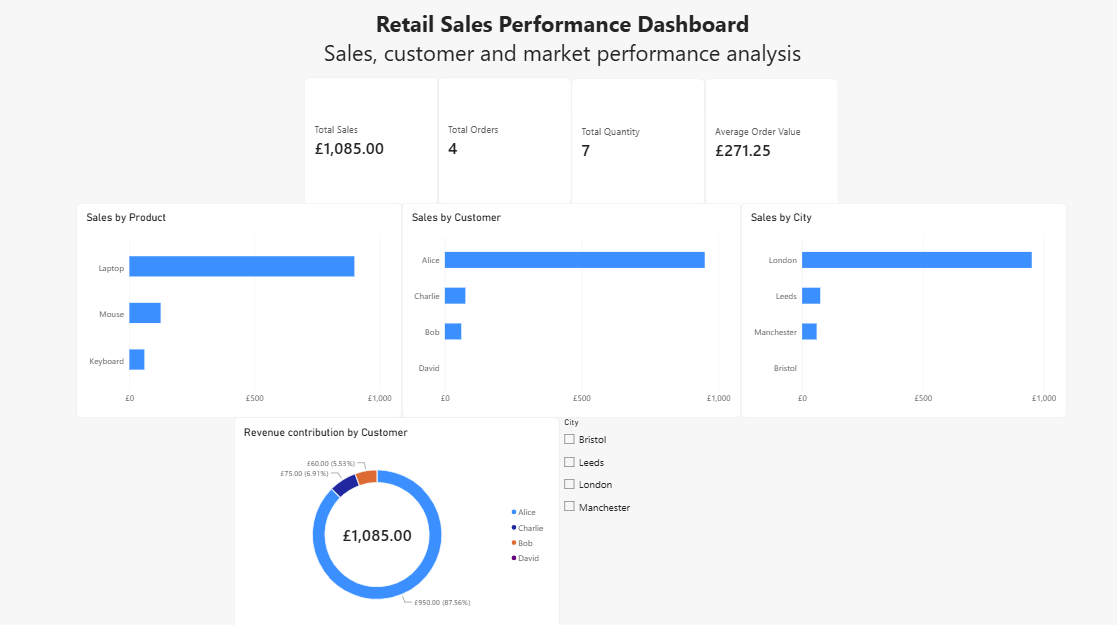

This screenshot's page, from the dashboard's own definition file:
{"tool":"powerbi","page":{"name":"Day 5","canvas":[1920,1080],"ordinal":1},"visuals":[{"type":"cardVisual","fields":{"Data":["Customers.Total Sales"]},"box":[526.7,137.4,226.4,216.3],"z":0},{"type":"cardVisual","fields":{"Data":["Orders.Total Orders"]},"box":[753.1,137.4,226,216],"z":1},{"type":"cardVisual","fields":{"Data":["Orders.Total Quantity"]},"box":[979.5,139.9,226,216],"z":2},{"type":"cardVisual","fields":{"Data":["Orders.Average Order Value"]},"box":[1206,139.9,226,216],"z":3},{"type":"clusteredBarChart","title":"Sales by Product","fields":{"Category":["Products.ProductName"],"Y":["Customers.Total Sales"]},"box":[139.9,351.1,552.1,363.8],"z":4},{"type":"clusteredBarChart","title":"Sales by Customer","fields":{"Category":["Customers.CustomerName"],"Y":["Customers.Total Sales"]},"box":[692,351.1,575,363.8],"z":5},{"type":"clusteredBarChart","title":"Sales by City","fields":{"Category":["Customers.City"],"Y":["Customers.Total Sales"]},"box":[1267,351.1,552,364],"z":6},{"type":"donutChart","title":"Revenue contribution by Customer","fields":{"Category":["Customers.CustomerName"],"Y":["Customers.Total Sales"]},"box":[407.1,714.9,552,364],"z":7},{"type":"slicer","fields":{"Values":["Customers.City"]},"box":[959.2,714.9,575,364],"z":8},{"type":"textbox","box":[140,715,267,364],"z":9},{"type":"textbox","box":[45.8,20.4,1836.9,114.5],"z":10}]}

Visuals, with their boxes in screenshot pixels (x1, y1, x2, y2), scaled from the page's 1920x1080 canvas onto the 1117x625 screenshot:
cardVisual - Customers.Total Sales: box=[306, 80, 438, 205]
cardVisual - Orders.Total Orders: box=[438, 80, 570, 205]
cardVisual - Orders.Total Quantity: box=[570, 81, 701, 206]
cardVisual - Orders.Average Order Value: box=[702, 81, 833, 206]
"Sales by Product" clusteredBarChart: box=[81, 203, 403, 414]
"Sales by Customer" clusteredBarChart: box=[403, 203, 737, 414]
"Sales by City" clusteredBarChart: box=[737, 203, 1058, 414]
"Revenue contribution by Customer" donutChart: box=[237, 414, 558, 624]
slicer - Customers.City: box=[558, 414, 893, 624]
textbox: box=[81, 414, 237, 624]
textbox: box=[27, 12, 1095, 78]
